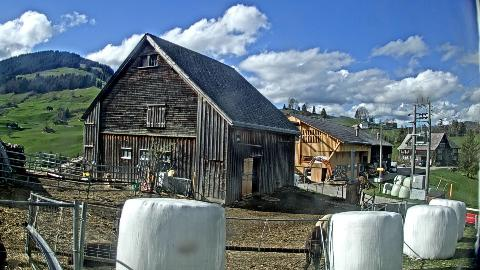car: (389, 166, 397, 172), (418, 162, 426, 166)
sheep: (67, 243, 117, 267), (304, 226, 326, 270), (316, 214, 332, 234), (0, 238, 8, 270), (106, 173, 122, 189)
